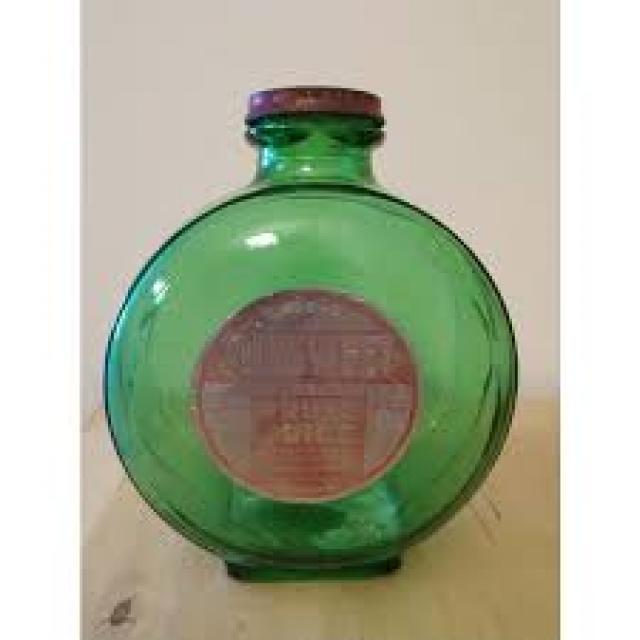Glass-Non-Biodegradable but Recyclable-: (100, 87, 526, 582)
